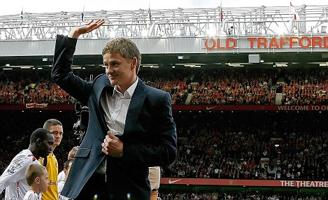person: (50, 18, 177, 200)
